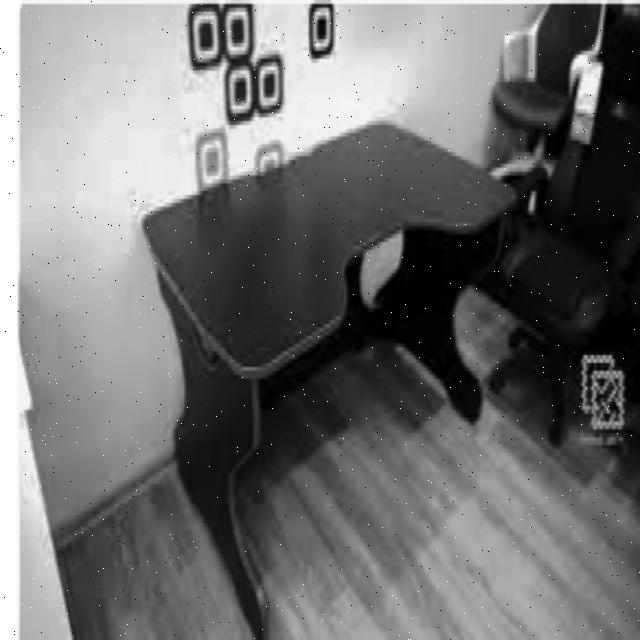table: (140, 117, 518, 640)
